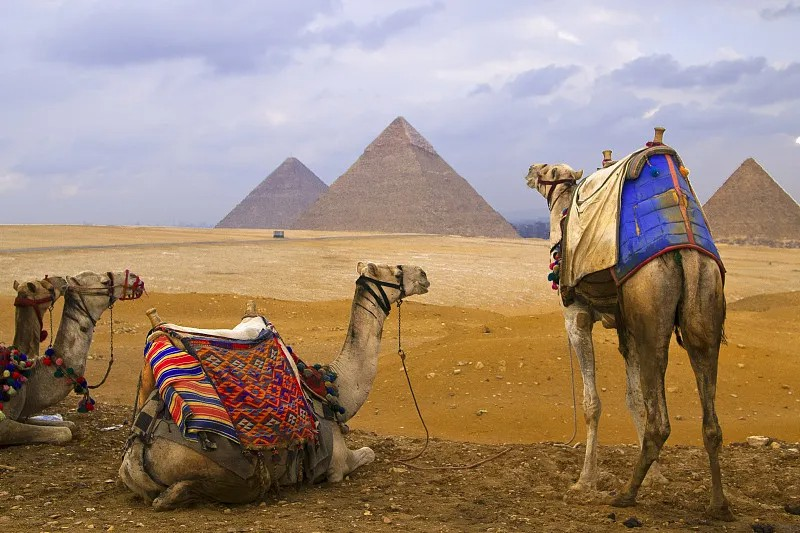Pyramid: (287, 115, 519, 236), (702, 158, 800, 245), (214, 158, 329, 229)
